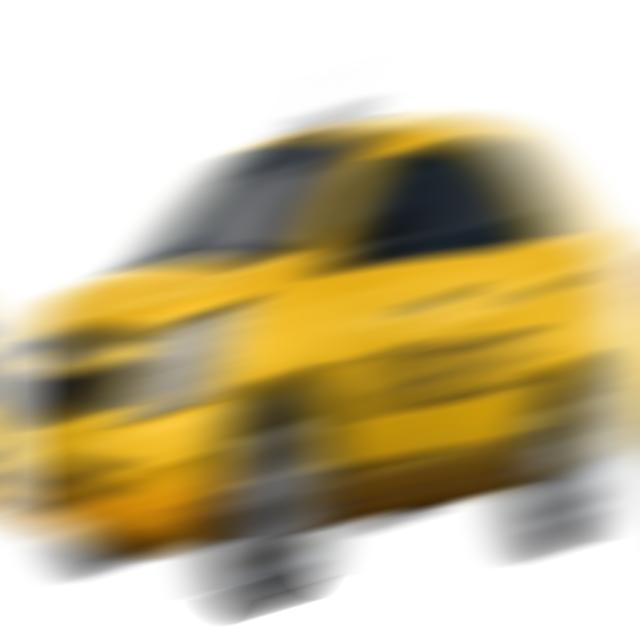Taxi: (11, 71, 640, 583)
